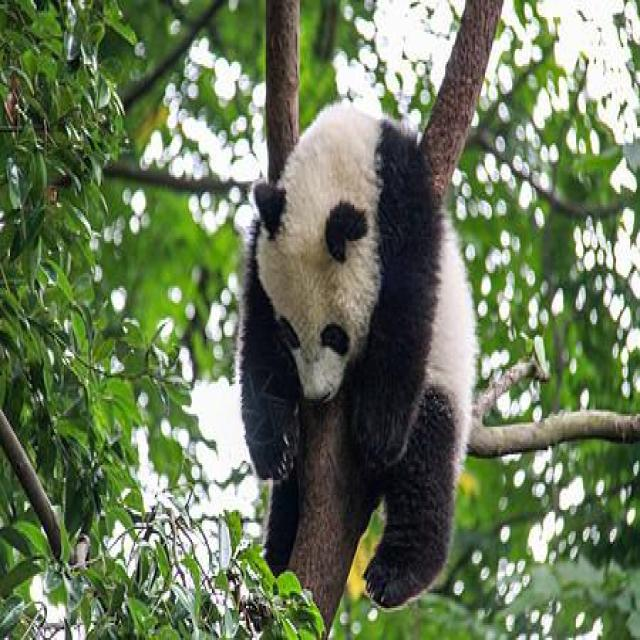panda: (228, 83, 528, 604)
